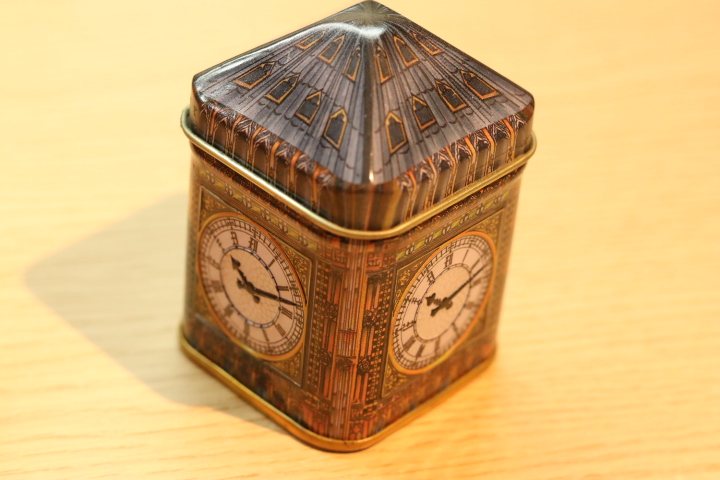Big Ben: (173, 1, 550, 463)
